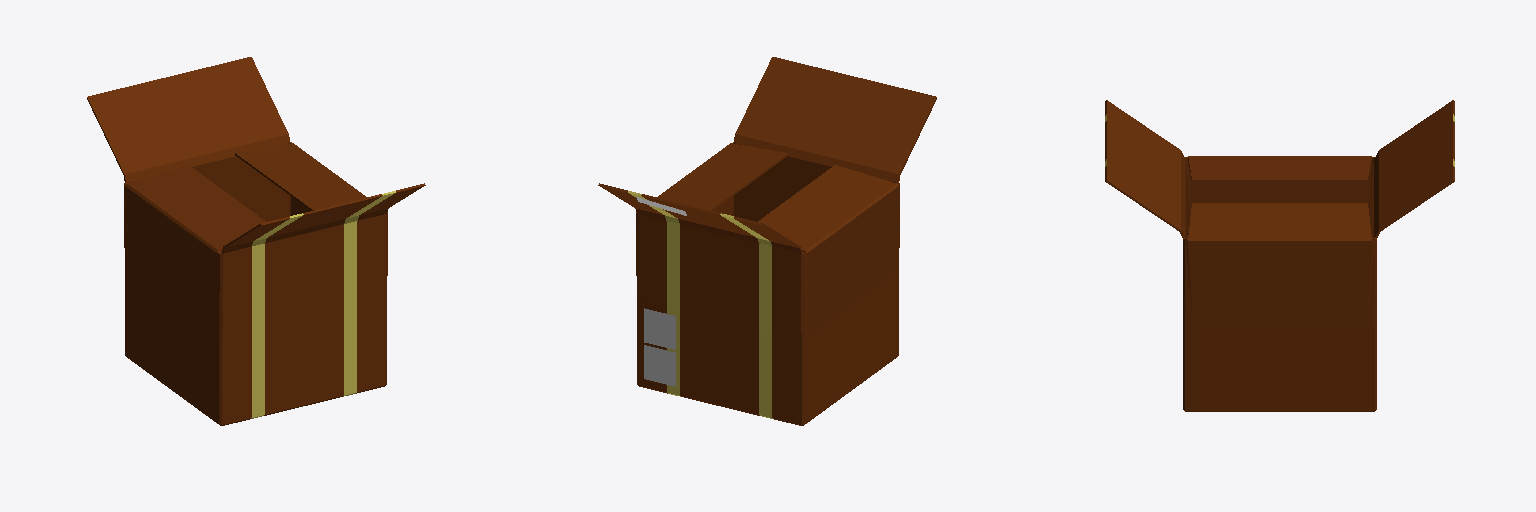
File: Cardboard.013.obj
The picture shows the model from 3 angles: view 1: azimuth 30°, elevation 25°; view 2: azimuth 150°, elevation 25°; view 3: azimuth 270°, elevation 25°; orthographic projection.
Visible parts, largest first — view 1: Cardboard.013_Cube.004; view 2: Cardboard.013_Cube.004, sign2.006_sign2.009, sign4.005; view 3: Cardboard.013_Cube.004.
Boxes of the visible parts, x1,y1,x2,y2 form: Cardboard.013_Cube.004: [87, 57, 425, 425]; Cardboard.013_Cube.004: [598, 57, 936, 425]; sign2.006_sign2.009: [644, 345, 675, 386]; sign4.005: [644, 308, 675, 349]; Cardboard.013_Cube.004: [1105, 100, 1454, 411].
Bounding box in the file's own units: 0.9037 × 1.18 × 1.61.